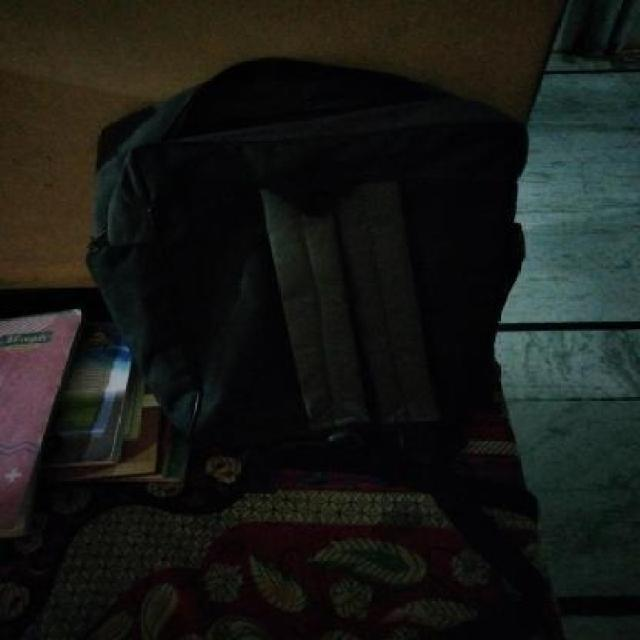backpack: (76, 48, 536, 464)
